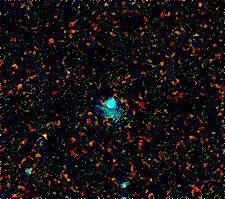star: (32, 123, 62, 153)
